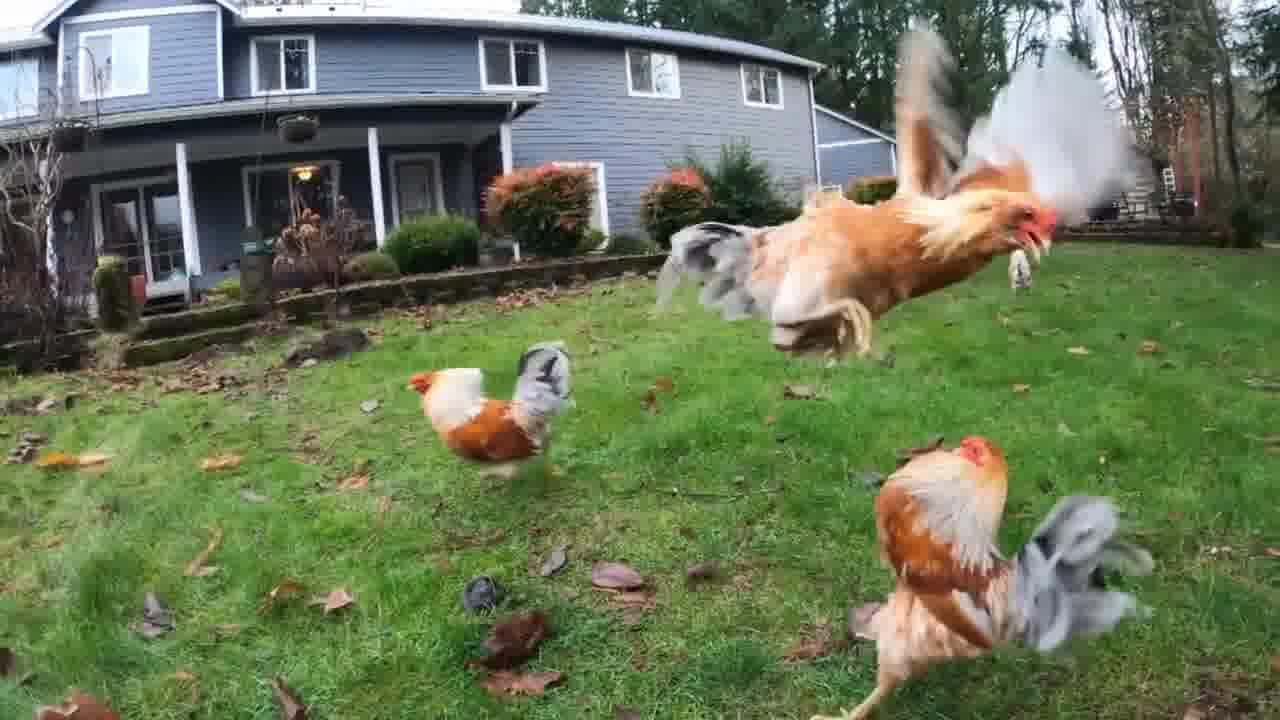Normal: (646, 22, 1132, 356), (798, 410, 1136, 718), (386, 338, 634, 482)
